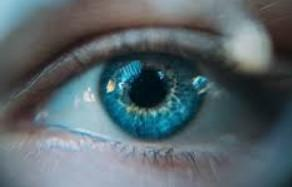eye: (97, 54, 208, 144)
